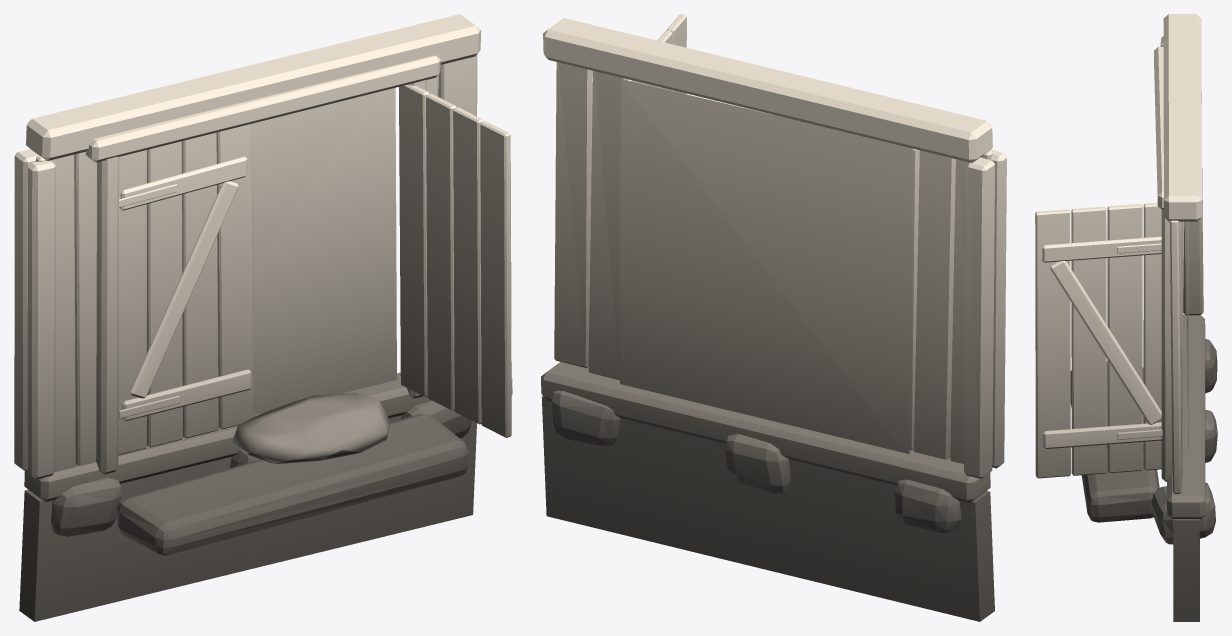
The model's file is SM_VK_Wall_Shed_Wide.fbx.
The picture shows the model from 3 angles, left to right: view 1: azimuth 30°, elevation 25°; view 2: azimuth 150°, elevation 25°; view 3: azimuth 270°, elevation 25°; orthographic projection. The views are drawn at different scales.
Parts seen in each view (by area): view 1: SM_VK_Wall_Shed_Wide.001; view 2: SM_VK_Wall_Shed_Wide.001; view 3: SM_VK_Wall_Shed_Wide.001.
Part boxes in pixels (x1,y1,x2,y2): SM_VK_Wall_Shed_Wide.001: (14,14,512,621); SM_VK_Wall_Shed_Wide.001: (541,14,1006,621); SM_VK_Wall_Shed_Wide.001: (1035,14,1217,621).
Bounding box in the file's own units: 3.09 × 3.21 × 1.25.
